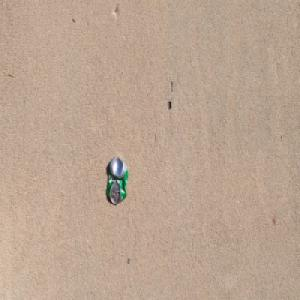SodaCan: (106, 156, 129, 205)
